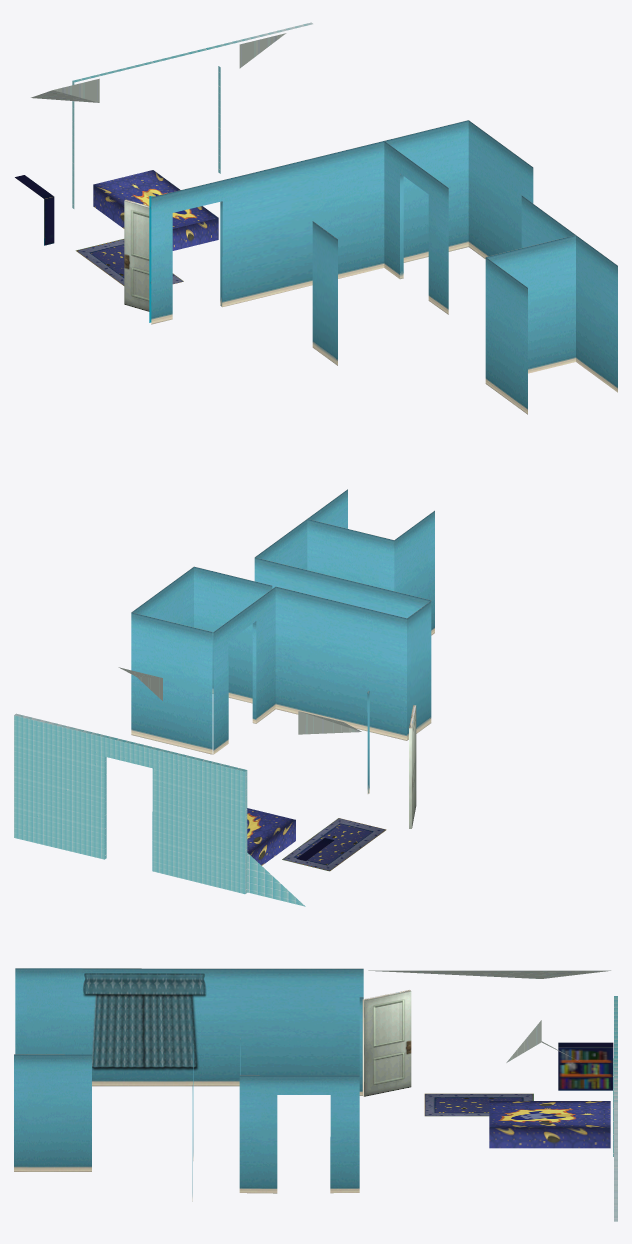
File: HALLWAY.glb
3 views of the same model, one above another, from view 1: azimuth 30°, elevation 25°; view 2: azimuth 150°, elevation 25°; view 3: azimuth 270°, elevation 25° (orthographic). The views are drawn at different scales.
Visible parts, largest first — view 1: HALLWAY; view 2: HALLWAY; view 3: HALLWAY.
Part boxes in pixels (<box>): HALLWAY: <box>15,22,617,414</box>; HALLWAY: <box>14,489,434,906</box>; HALLWAY: <box>14,968,617,1221</box>.
Size of the model in its own units: 1633 by 894 by 2901.
Materials: 9 (9 with a texture image).
